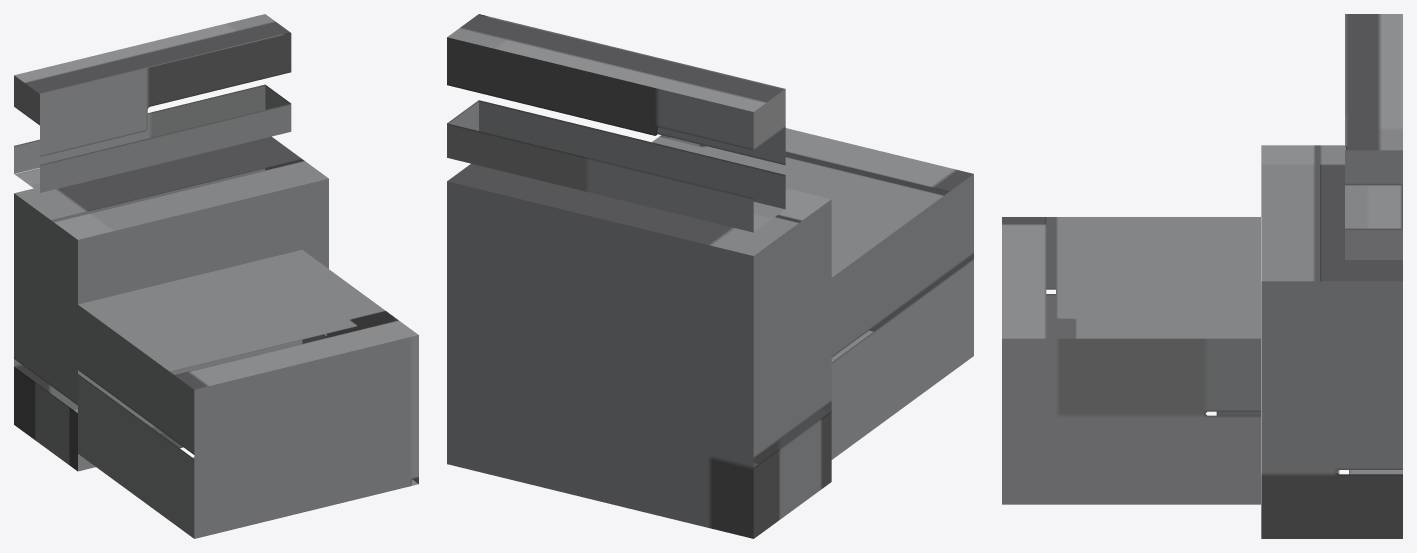
3 views of the same model, side by side, from view 1: azimuth 30°, elevation 25°; view 2: azimuth 150°, elevation 25°; view 3: azimuth 270°, elevation 25° (orthographic). The views are drawn at different scales.
Bounding box in the file's own units: 0.5323 × 0.708 × 0.6616.
